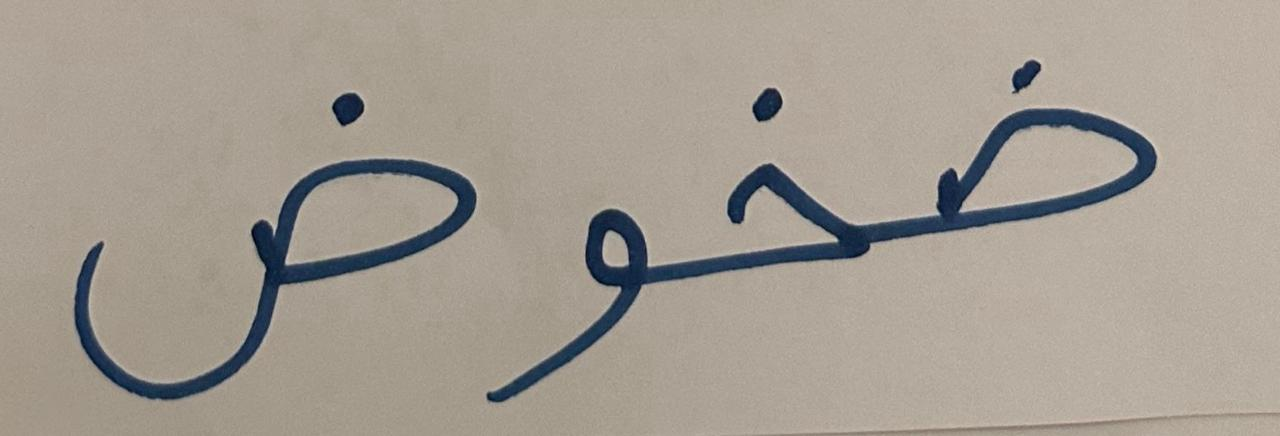dad: (39, 42, 484, 407), (905, 13, 1194, 309)
lam: (677, 48, 901, 331)
yeh: (487, 146, 674, 419)
